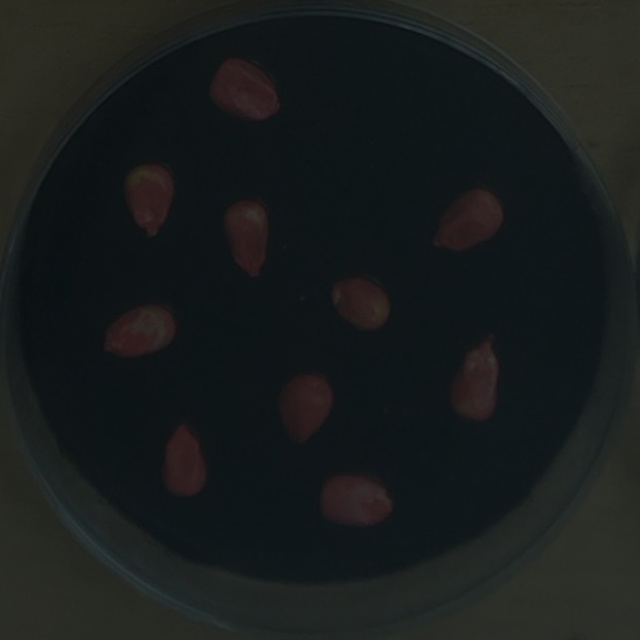Zea mays: (199, 48, 287, 129), (440, 328, 506, 430), (424, 181, 510, 259), (269, 367, 340, 455), (93, 296, 182, 366), (311, 466, 401, 535), (115, 155, 181, 246), (214, 194, 276, 286), (322, 267, 399, 338), (153, 417, 215, 505)
